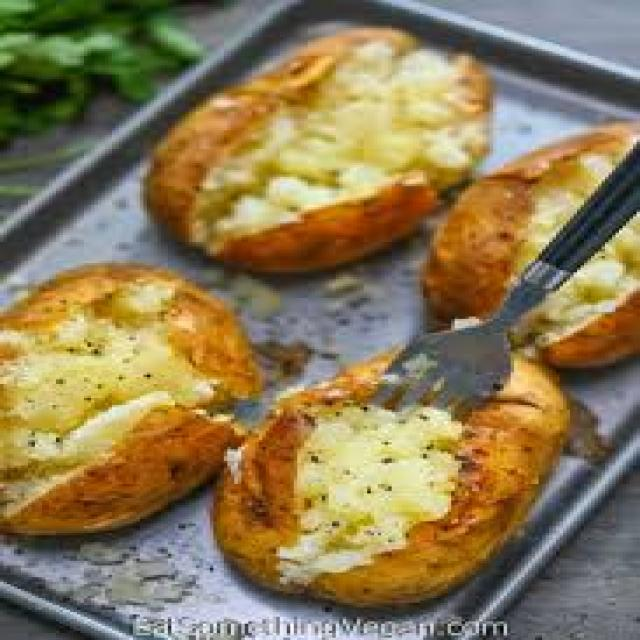Baked Potato: (177, 62, 640, 348)
